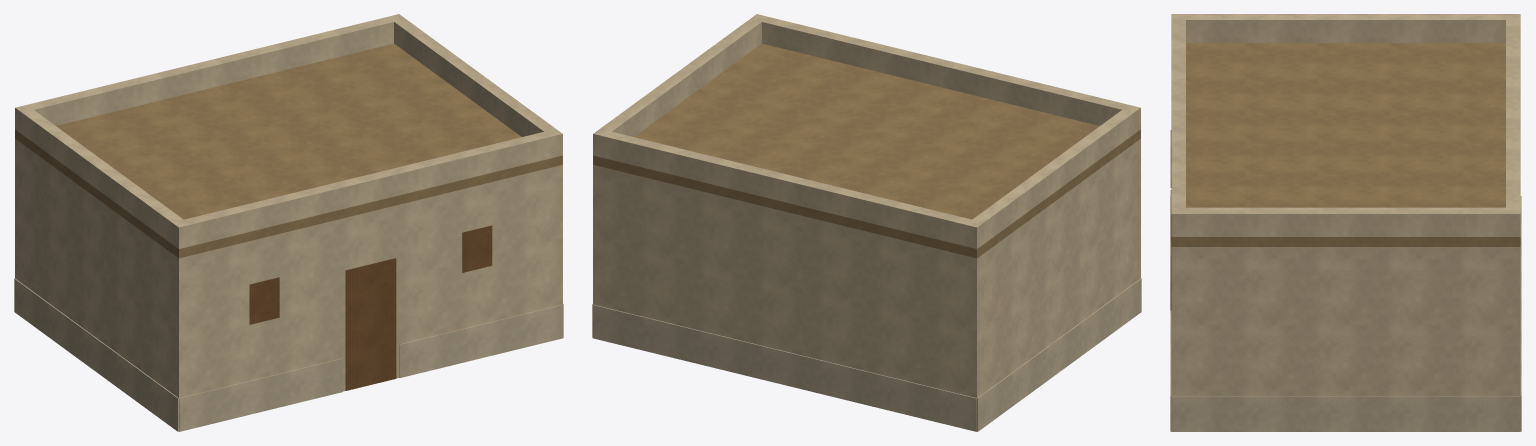
The picture shows the model from 3 angles, left to right: view 1: azimuth 30°, elevation 25°; view 2: azimuth 150°, elevation 25°; view 3: azimuth 270°, elevation 25°; orthographic projection. The views are drawn at different scales.
Parts seen in each view (by area): view 1: dwelling metres; view 2: dwelling metres; view 3: dwelling metres.
Part boxes in pixels (left/top/right/bottom): dwelling metres: left=14, top=14, right=563, bottom=431; dwelling metres: left=592, top=14, right=1141, bottom=431; dwelling metres: left=1170, top=14, right=1521, bottom=431.
Bounding box in the file's own units: 6.53 × 3.3 × 4.83.
Materials: 4 (4 with a texture image).
